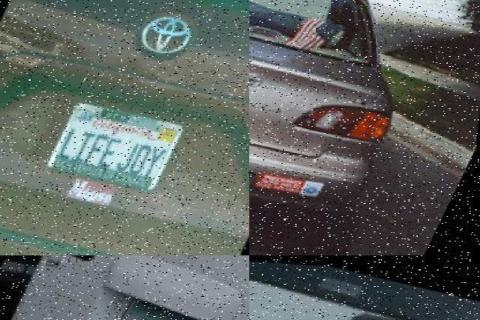LicensePlate: (47, 95, 189, 189), (92, 293, 202, 320), (250, 152, 292, 196)
